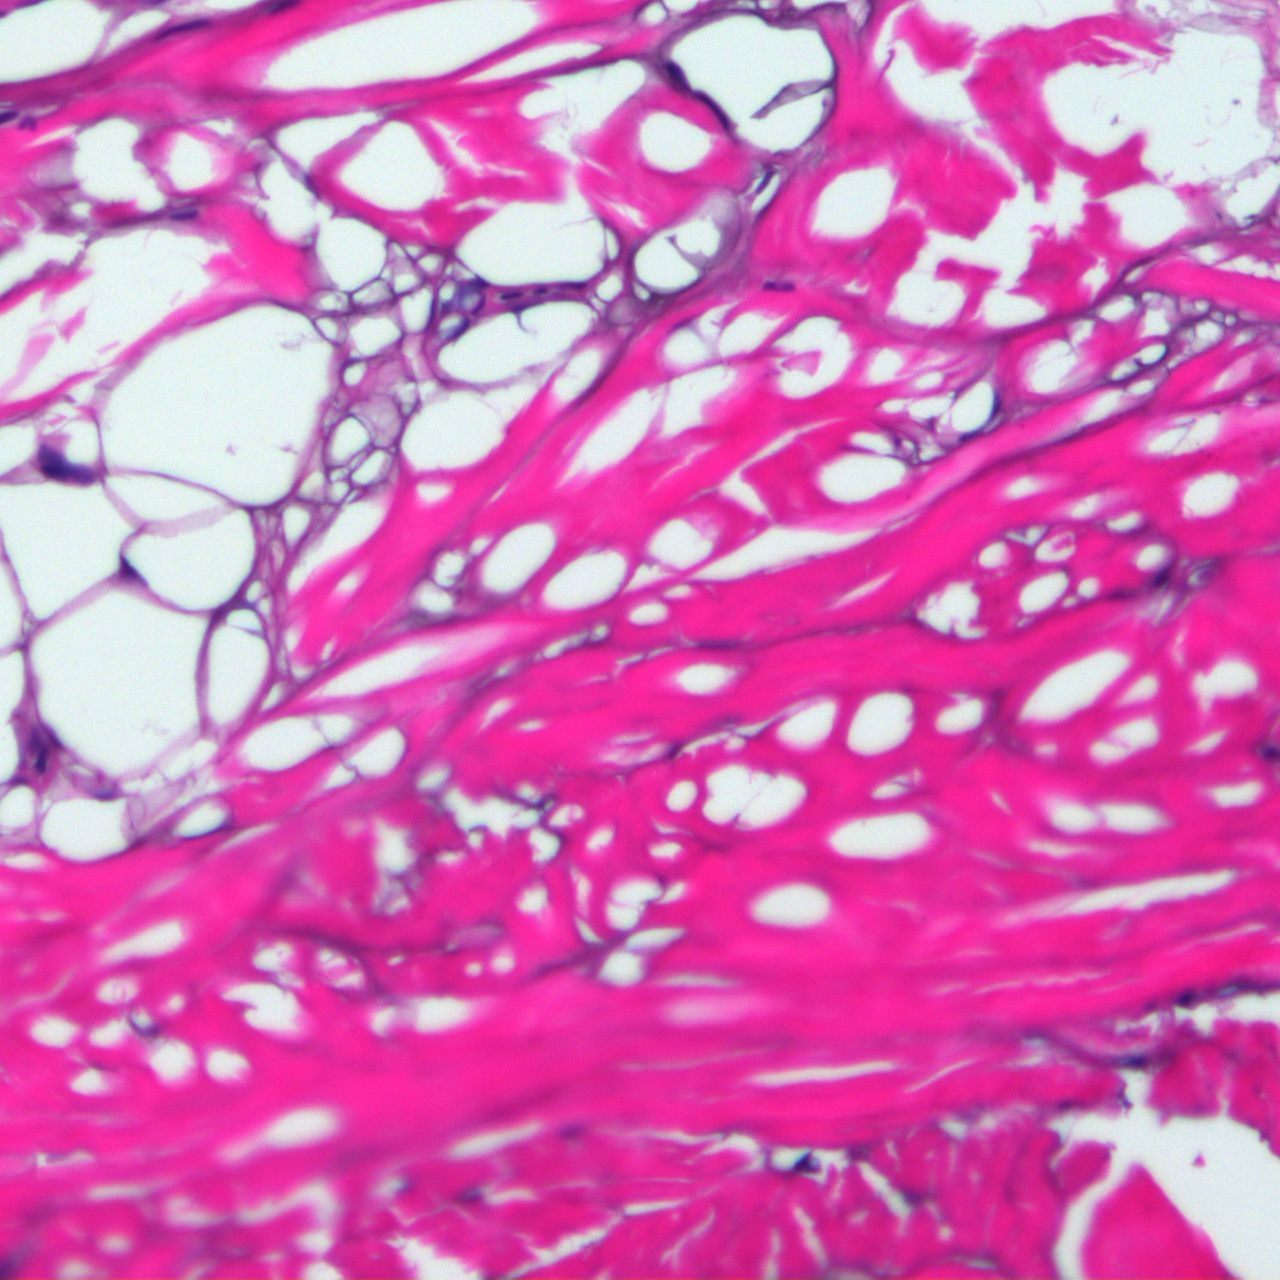nucleus-HE: (697, 89, 731, 128), (663, 60, 690, 91), (501, 290, 520, 301), (34, 753, 46, 772), (566, 282, 583, 290)
